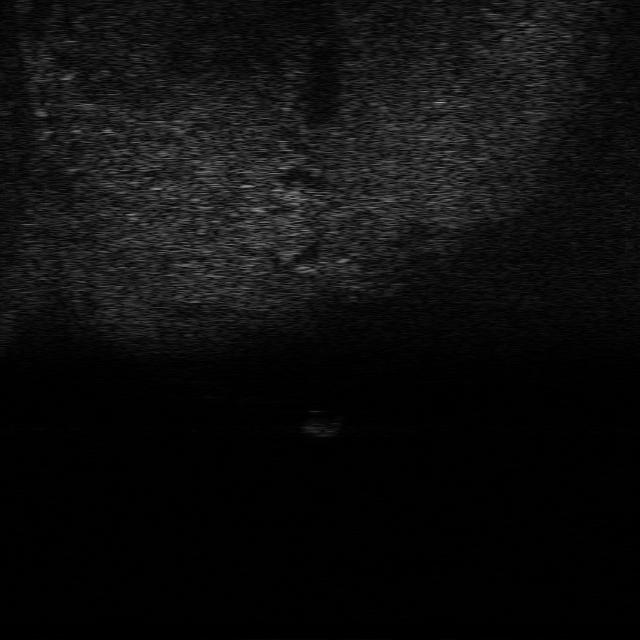cube: (295, 408, 345, 437)
